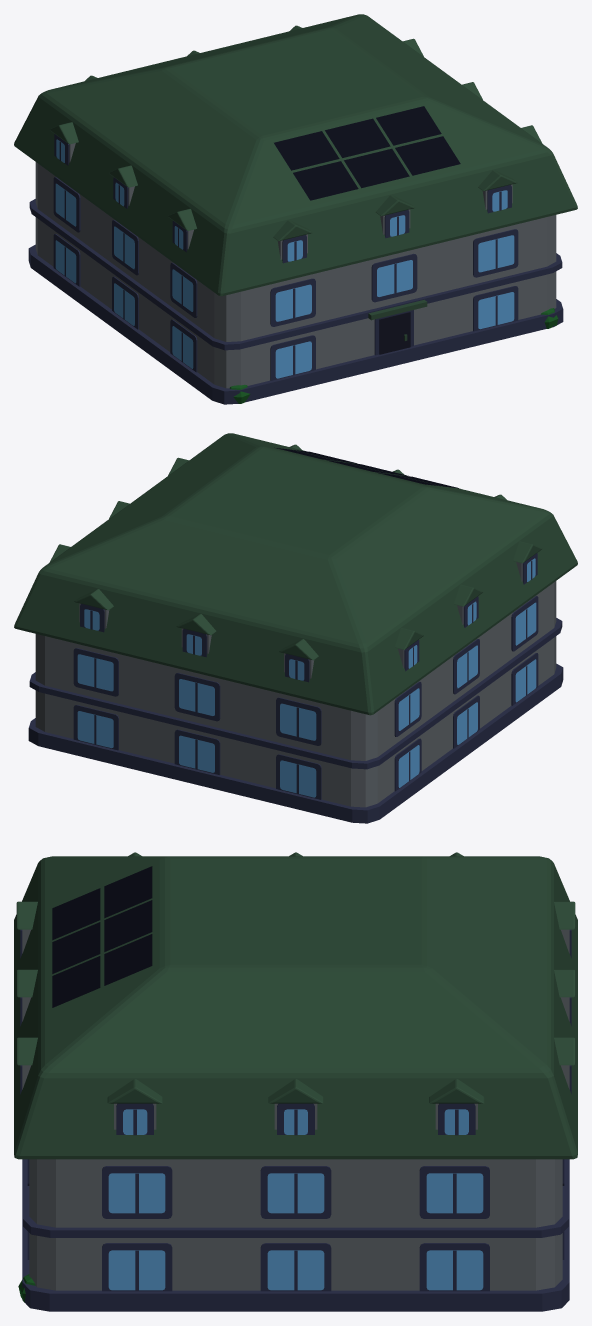
The model's file is house-2x2-2f-mansard-d-solar.glb.
The picture shows the model from 3 angles, top to bottom: view 1: azimuth 30°, elevation 25°; view 2: azimuth 150°, elevation 25°; view 3: azimuth 270°, elevation 25°; orthographic projection. The views are drawn at different scales.
Visible parts, largest first — view 1: house-2x2-2f-mansard-d-solar; view 2: house-2x2-2f-mansard-d-solar; view 3: house-2x2-2f-mansard-d-solar.
Boxes of the visible parts, x1,y1,x2,y2 form: house-2x2-2f-mansard-d-solar: (14, 14, 577, 404); house-2x2-2f-mansard-d-solar: (14, 433, 577, 823); house-2x2-2f-mansard-d-solar: (14, 852, 577, 1311).
Size of the model in its own units: 1.99 by 1.11 by 1.99.
Materials: 1 (1 with a texture image).
